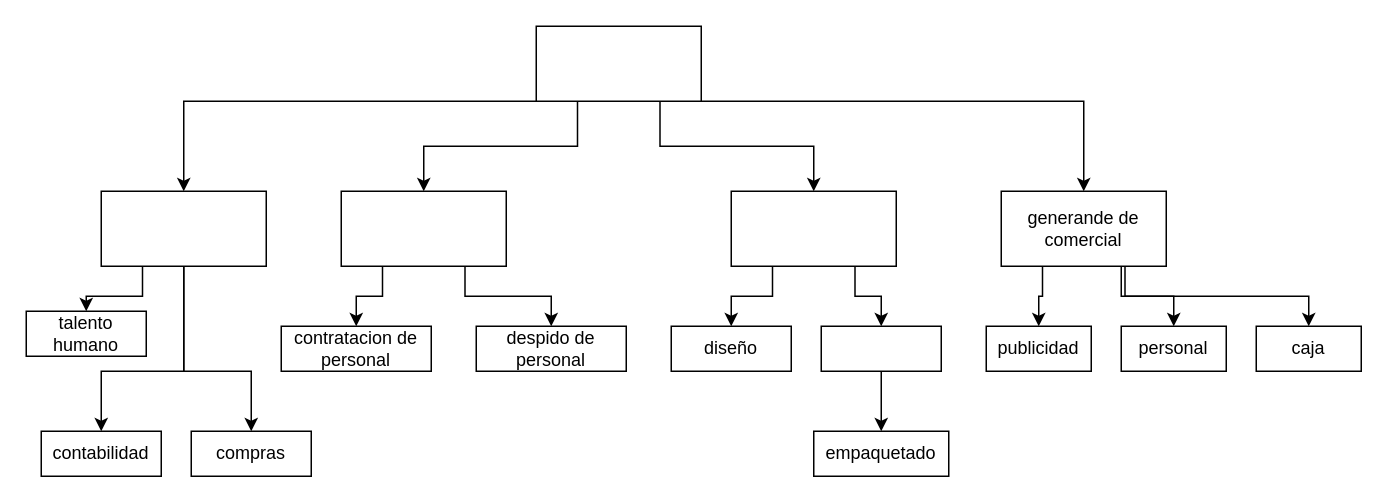
Some shapes in this 1388 by 503 pixel diagram are drawn without their labels. Each missing label, with the centre of its shape:
control de calidad: [880,348]
director general: [618,63]
generante de produccion: [813,228]
gerente administrativo y finanzas: [183,228]
gerente de recursos humanos: [423,228]
